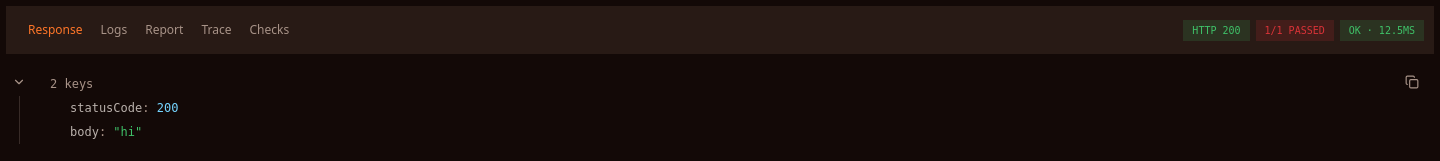
Scenario: shows a script-error row alongside any results gathered before it threw
Click the tab "Checks". click: (269, 30)
box: [240,16,298,44]
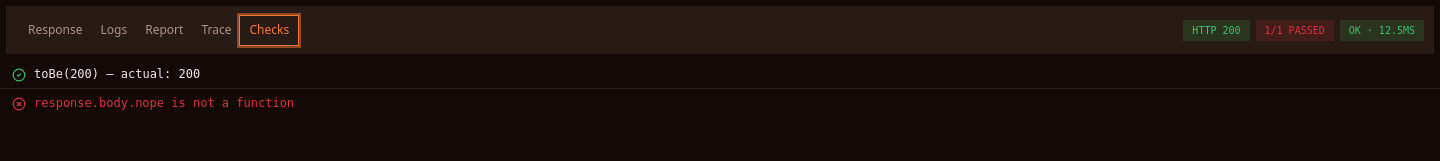
Now the text "response.body.nope is not a function" is shown, box [34,95,294,111]
Now the picture named "Script error" is shown, box [12,97,26,111]
